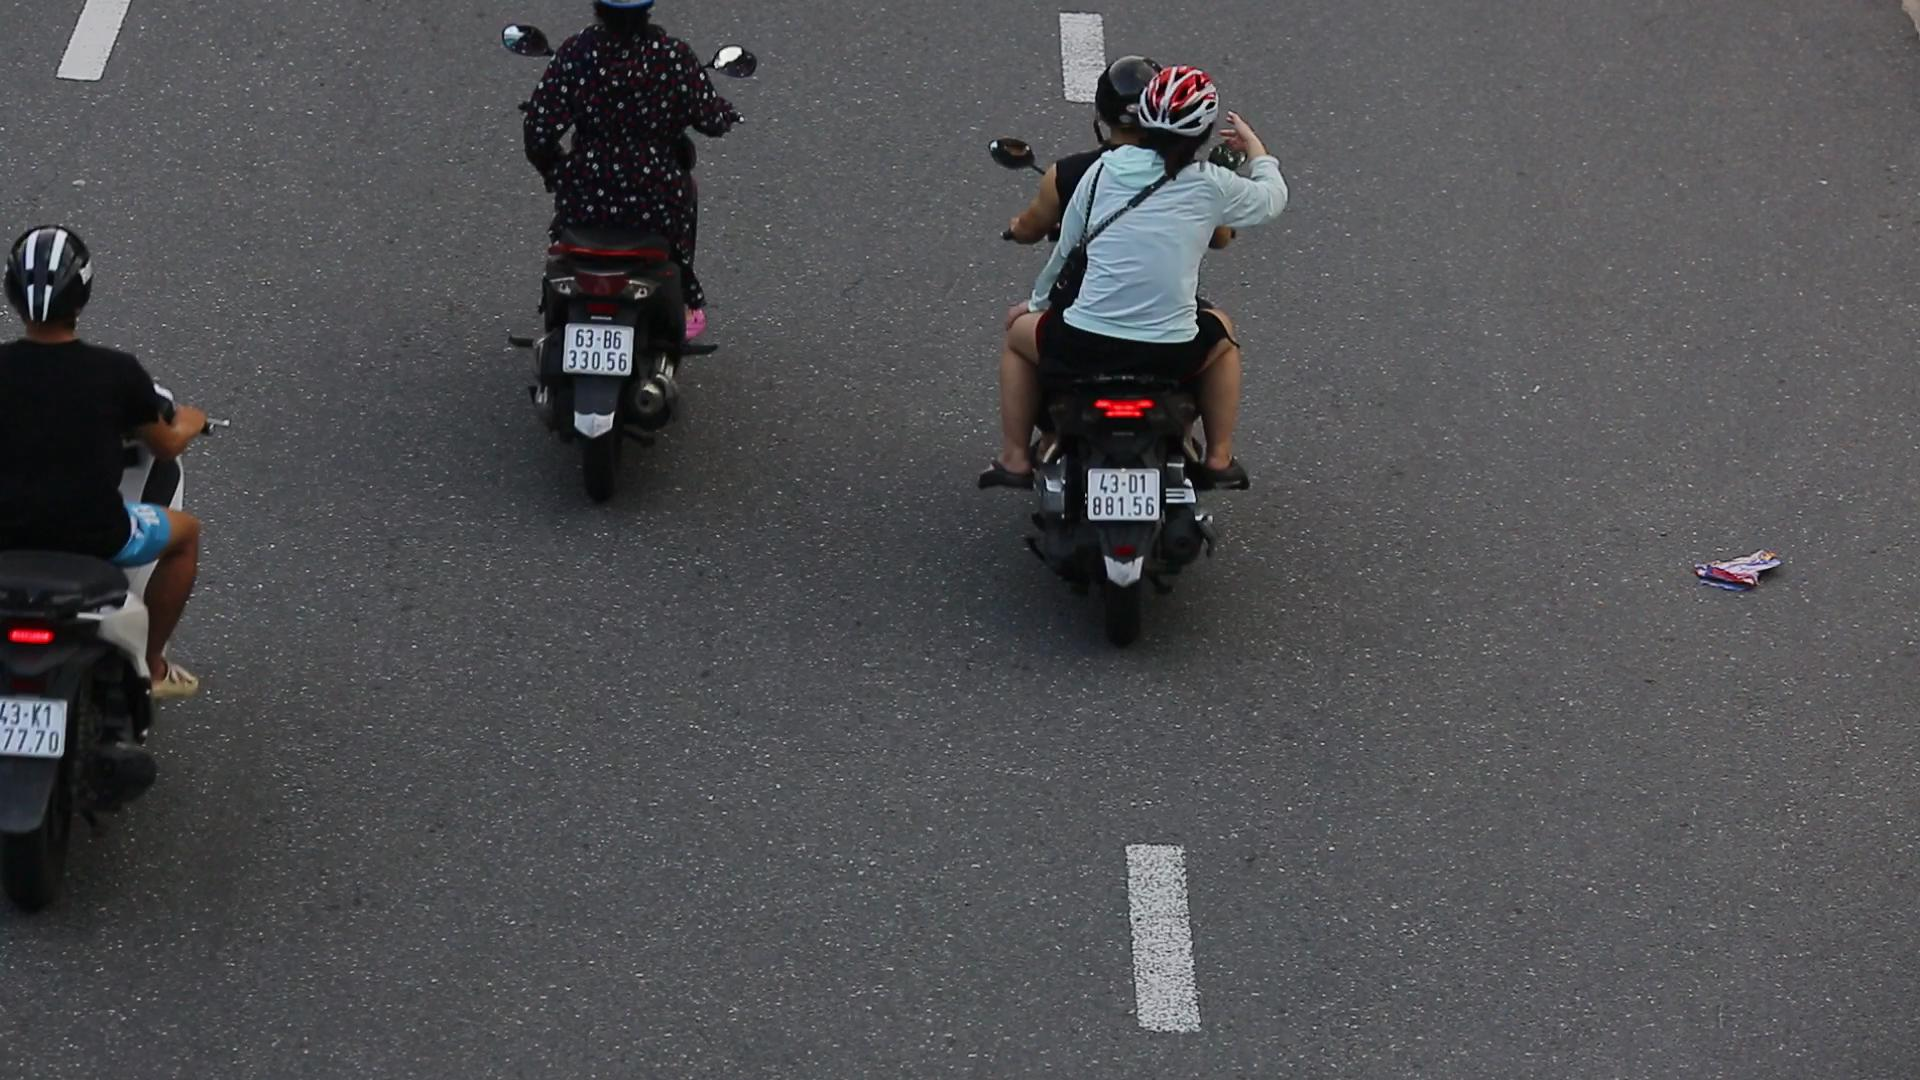motobike: (971, 32, 1303, 679)
